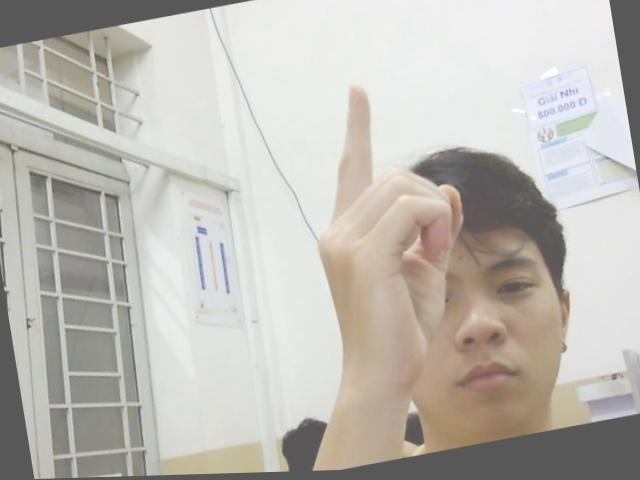D: (290, 67, 487, 401)
